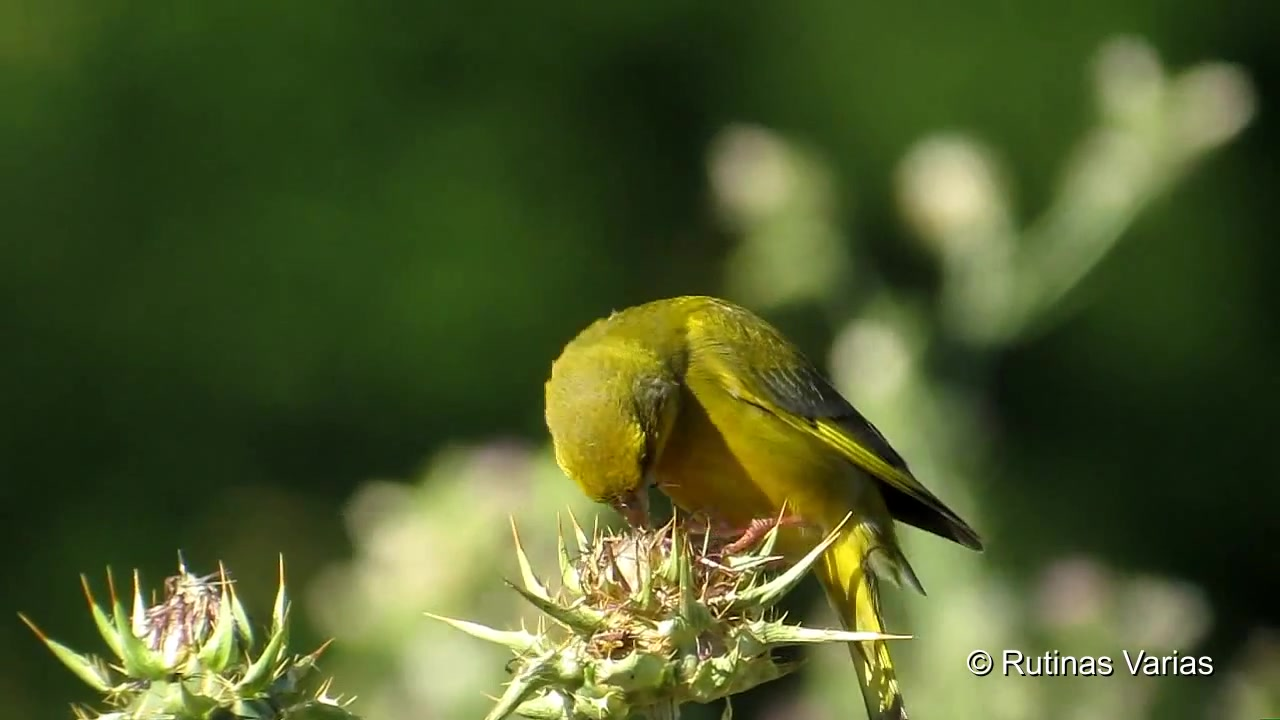bird: (544, 295, 987, 720)
